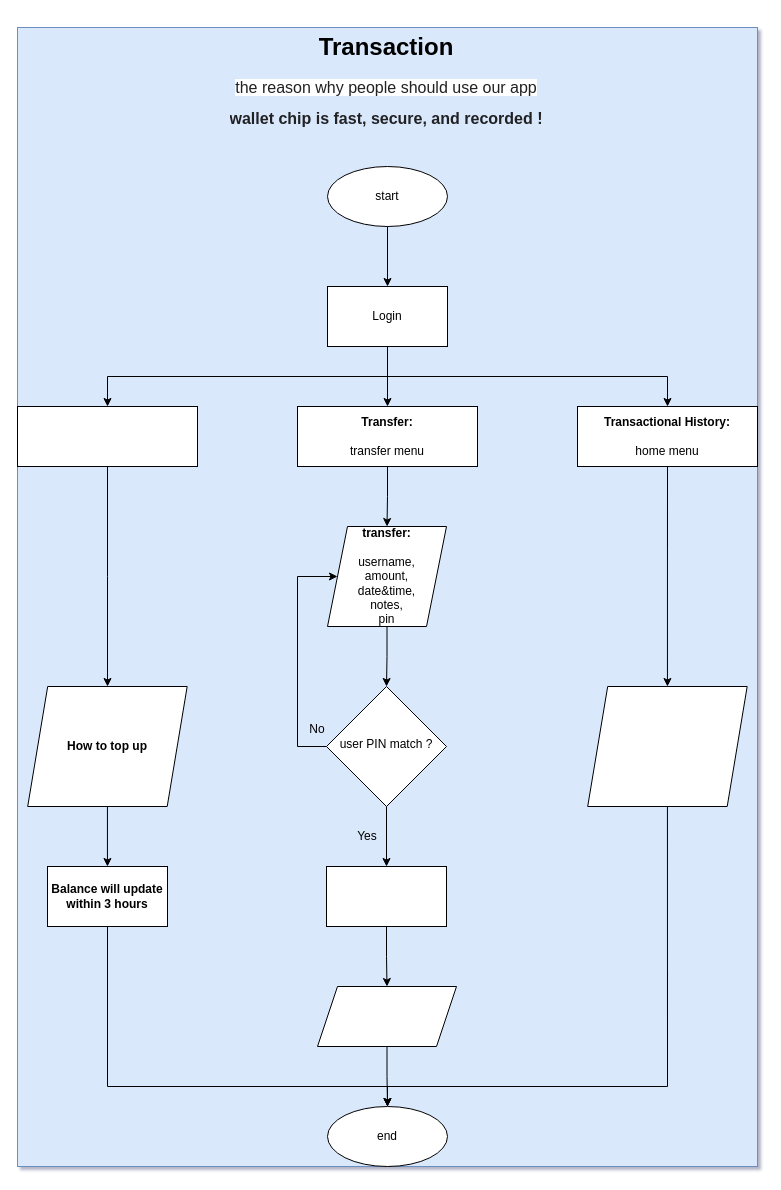
Image size: 781x1190. Some labels were removed from this diagram. Each missing label, with the box of its shape:
Top Up: top up menu: (16, 406, 198, 466)
transactional history: username, amount, date&time, notes, pin: (587, 686, 747, 806)
Transfer: (326, 866, 446, 926)
transfer success !: (316, 986, 456, 1046)
